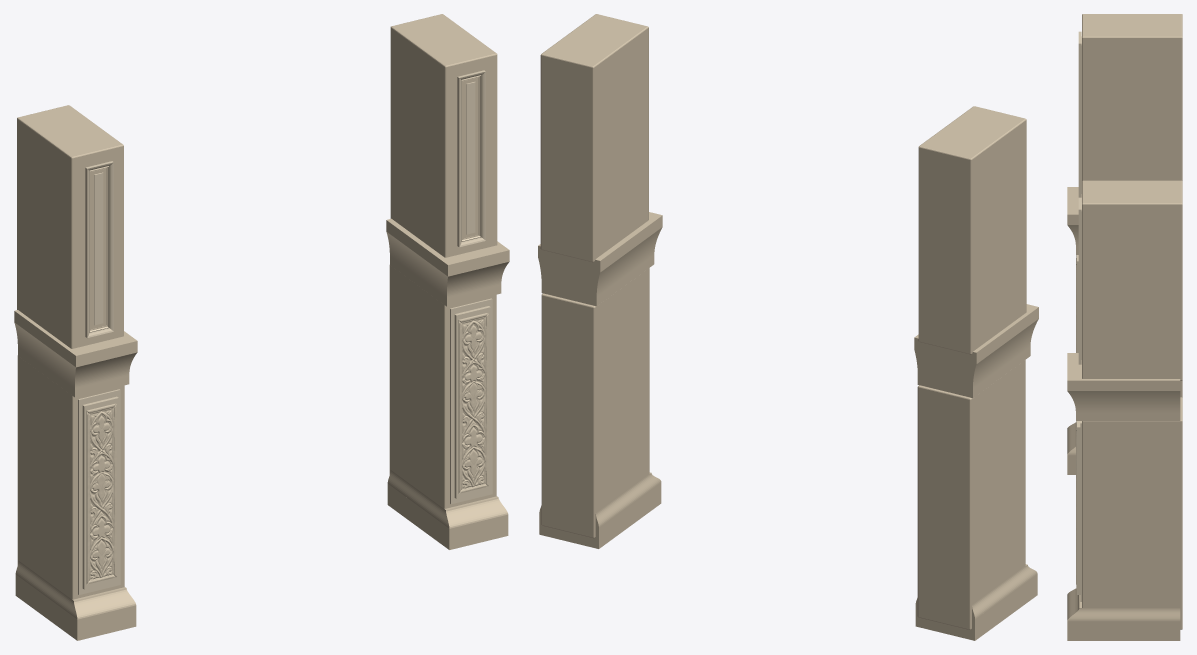
Rendered from altar-pilasters.glb.
3 renders of one model, left to right at view 1: azimuth 30°, elevation 25°; view 2: azimuth 150°, elevation 25°; view 3: azimuth 270°, elevation 25°, orthographic. The views are drawn at different scales.
Parts seen in each view (by area): view 1: PILASTER_R_upper, PILASTER_L_upper, PILASTER_R_shaft, PILASTER_L_shaft, PILASTER_R_LOWER_PANEL_RELIEF_v19_14_3, PILASTER_L_LOWER_PANEL_RELIEF_v19_14_3, PILASTER_L_capitalbase_0, PILASTER_R_capitalbase_0, PILASTER_R_capitalbase_3, PILASTER_L_capitalbase_3, PILASTER_R_capitalbase_4, PILASTER_L_capitalbase_4 (+14 smaller); view 2: PILASTER_L_upper, PILASTER_R_upper, PILASTER_R_shaft, PILASTER_L_shaft, PILASTER_L_capitalbase_3, PILASTER_R_capitalbase_3, PILASTER_R_capitalbase_0, PILASTER_L_capitalbase_0, PILASTER_R_capitalbase_4, PILASTER_L_capitalbase_4, PILASTER_R_capitalbase_2, PILASTER_L_capitalbase_2 (+2 smaller); view 3: PILASTER_R_upper, PILASTER_R_shaft, PILASTER_L_upper, PILASTER_R_capitalbase_3, PILASTER_R_capitalbase_0, PILASTER_R_capitalbase_1, PILASTER_R_capitalbase_4, PILASTER_R_capitalbase_2, PILASTER_R_LOWER_FRAME_INNER_v19_14_3, PILASTER_upper_frame_1_1, PILASTER_upper_frame_-1_1, PILASTER_L_capitalbase_4 (+3 smaller).
Boxes of the visible parts, left/top/right/bottom form: PILASTER_R_upper: left=390, top=14, right=497, bottom=257; PILASTER_L_upper: left=17, top=105, right=123, bottom=348; PILASTER_R_shaft: left=389, top=265, right=496, bottom=508; PILASTER_L_shaft: left=17, top=355, right=124, bottom=599; PILASTER_R_LOWER_PANEL_RELIEF_v19_14_3: left=458, top=313, right=488, bottom=493; PILASTER_L_LOWER_PANEL_RELIEF_v19_14_3: left=86, top=403, right=116, bottom=584; PILASTER_L_capitalbase_0: left=15, top=575, right=136, bottom=640; PILASTER_R_capitalbase_0: left=387, top=484, right=508, bottom=549; PILASTER_R_capitalbase_3: left=386, top=232, right=509, bottom=297; PILASTER_L_capitalbase_3: left=14, top=322, right=137, bottom=388; PILASTER_R_capitalbase_4: left=386, top=218, right=509, bottom=276; PILASTER_L_capitalbase_4: left=14, top=310, right=137, bottom=367; PILASTER_L_upper: left=918, top=106, right=1026, bottom=354; PILASTER_R_upper: left=540, top=14, right=648, bottom=262; PILASTER_R_shaft: left=541, top=268, right=649, bottom=538; PILASTER_L_shaft: left=917, top=360, right=1025, bottom=629; PILASTER_L_capitalbase_3: left=914, top=319, right=1038, bottom=388; PILASTER_R_capitalbase_3: left=538, top=227, right=662, bottom=296; PILASTER_R_capitalbase_0: left=539, top=482, right=661, bottom=548; PILASTER_L_capitalbase_0: left=915, top=574, right=1037, bottom=640; PILASTER_R_capitalbase_4: left=538, top=212, right=662, bottom=272; PILASTER_L_capitalbase_4: left=914, top=304, right=1038, bottom=364; PILASTER_R_capitalbase_2: left=541, top=255, right=654, bottom=306; PILASTER_L_capitalbase_2: left=917, top=347, right=1030, bottom=398; PILASTER_R_upper: left=1082, top=180, right=1182, bottom=380; PILASTER_R_shaft: left=1082, top=397, right=1182, bottom=629; PILASTER_L_upper: left=1082, top=14, right=1182, bottom=180; PILASTER_R_capitalbase_3: left=1067, top=391, right=1180, bottom=412; PILASTER_R_capitalbase_0: left=1067, top=621, right=1180, bottom=640; PILASTER_R_capitalbase_1: left=1067, top=588, right=1180, bottom=621; PILASTER_R_capitalbase_4: left=1067, top=353, right=1180, bottom=390; PILASTER_R_capitalbase_2: left=1076, top=412, right=1180, bottom=420; PILASTER_R_LOWER_FRAME_INNER_v19_14_3: left=1077, top=421, right=1080, bottom=594; PILASTER_upper_frame_1_1: left=1078, top=197, right=1081, bottom=364; PILASTER_upper_frame_-1_1: left=1078, top=31, right=1081, bottom=197; PILASTER_L_capitalbase_4: left=1067, top=187, right=1081, bottom=224.
Size of the model in its own units: 2.94 by 3.09 by 0.7432.
